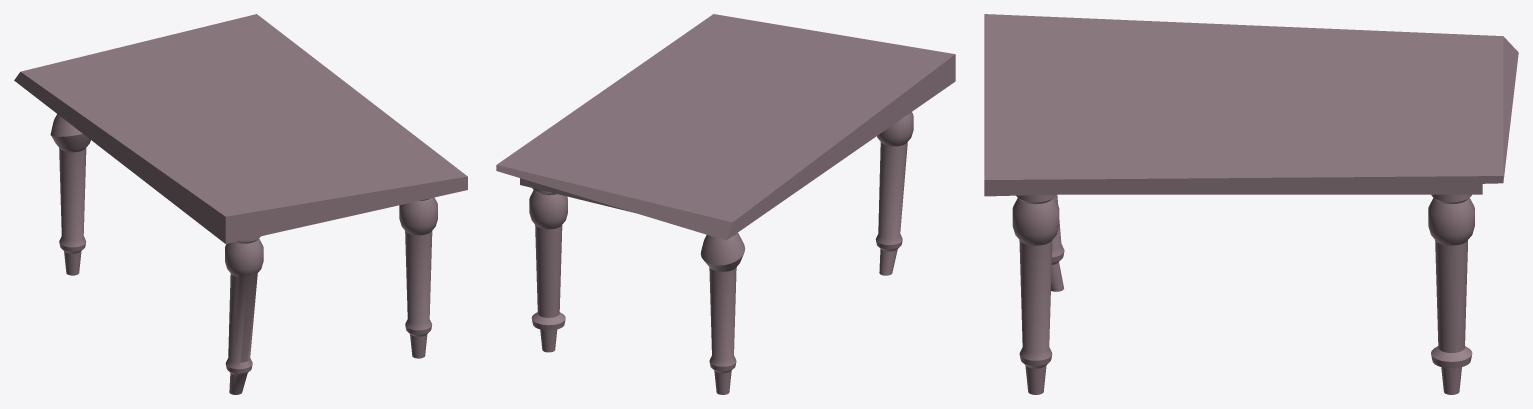
Rendered from table.fbx.
The picture shows the model from 3 angles, left to right: view 1: azimuth 30°, elevation 25°; view 2: azimuth 150°, elevation 25°; view 3: azimuth 270°, elevation 25°; orthographic projection. The views are drawn at different scales.
Parts seen in each view (by area): view 1: Table; view 2: Table; view 3: Table.
Boxes of the visible parts, bbox=[...] form: Table: bbox=[14, 14, 467, 394]; Table: bbox=[496, 14, 955, 394]; Table: bbox=[984, 14, 1518, 394].
Bounding box in the file's own units: 229 × 356 × 185.
